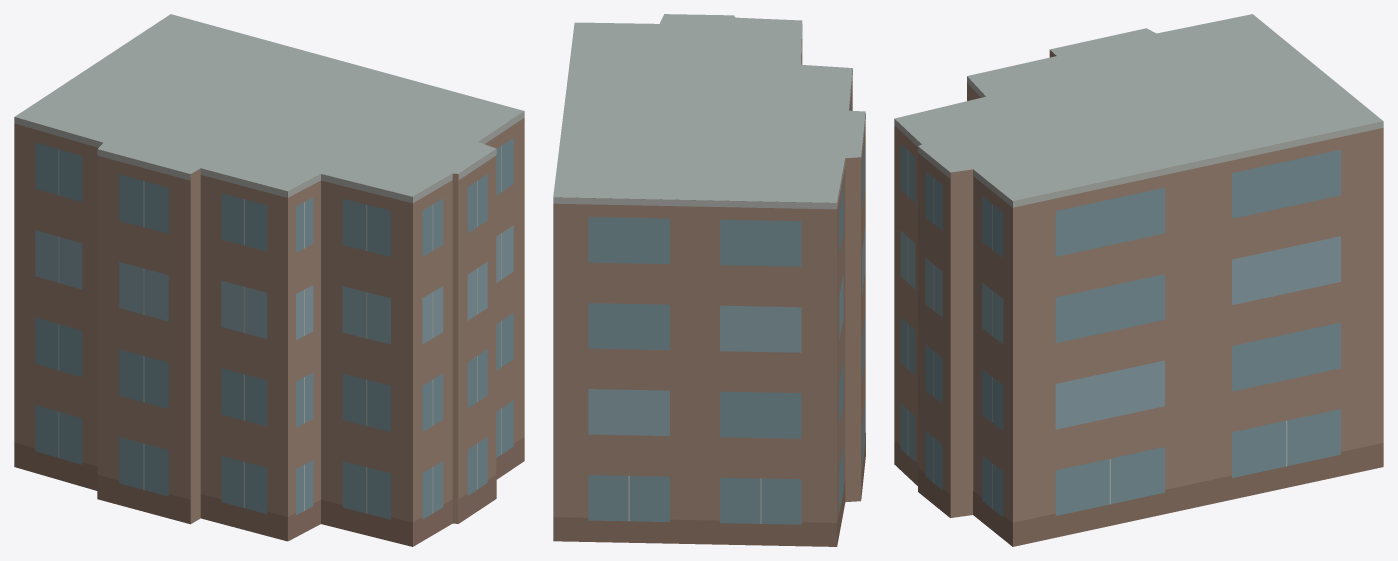
Rendered from survey-upis-32619394.glb.
3 views of the same model, side by side, from view 1: azimuth 30°, elevation 25°; view 2: azimuth 150°, elevation 25°; view 3: azimuth 270°, elevation 25° (orthographic).
Parts seen in each view (by area): view 1: survey-upis-32619394.tmp; view 2: survey-upis-32619394.tmp; view 3: survey-upis-32619394.tmp.
Part boxes in pixels (x1,y1,x2,y2): survey-upis-32619394.tmp: (14,14,524,546); survey-upis-32619394.tmp: (553,14,865,546); survey-upis-32619394.tmp: (894,14,1383,546).
Size of the model in its own units: 15.11 by 13 by 16.69.
